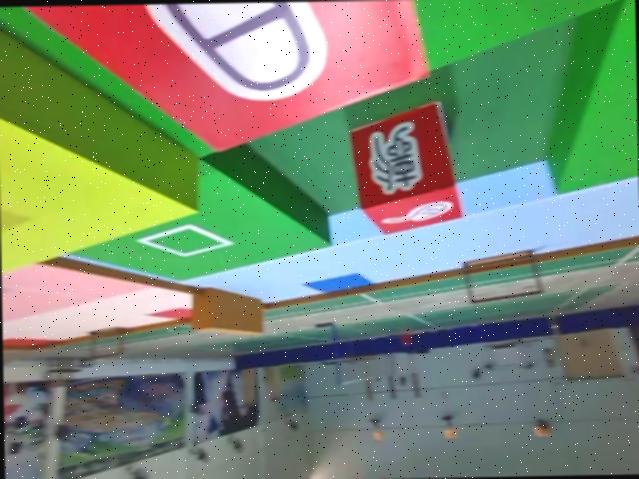R2 Fake: (14, 0, 430, 155), (350, 98, 463, 234)
